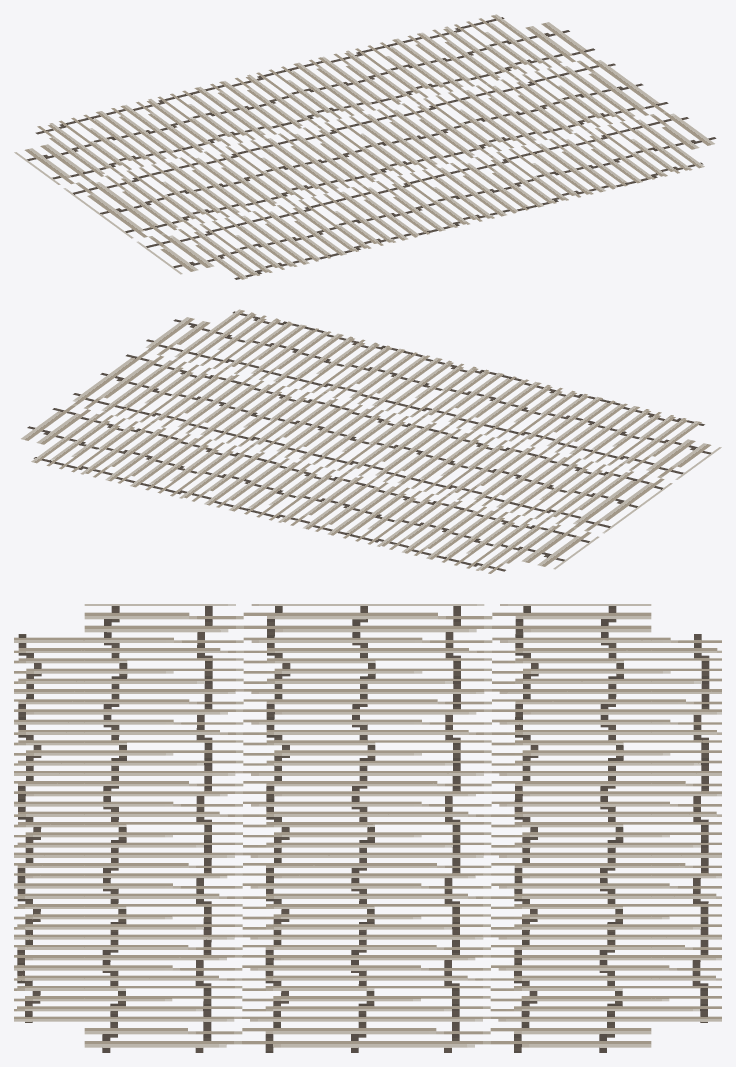
File: BambooMat.fbx
3 views of the same model, one above another, from view 1: azimuth 30°, elevation 25°; view 2: azimuth 150°, elevation 25°; view 3: azimuth 270°, elevation 25° (orthographic). The views are drawn at different scales.
Parts seen in each view (by area): view 1: BambooMat; view 2: BambooMat; view 3: BambooMat.
Part boxes in pixels (<box>): BambooMat: <box>14,14,716,279</box>; BambooMat: <box>21,309,721,573</box>; BambooMat: <box>14,604,721,1052</box>.
Bounding box in the file's own units: 600 × 0 × 400.
1 material, 1 textured.
